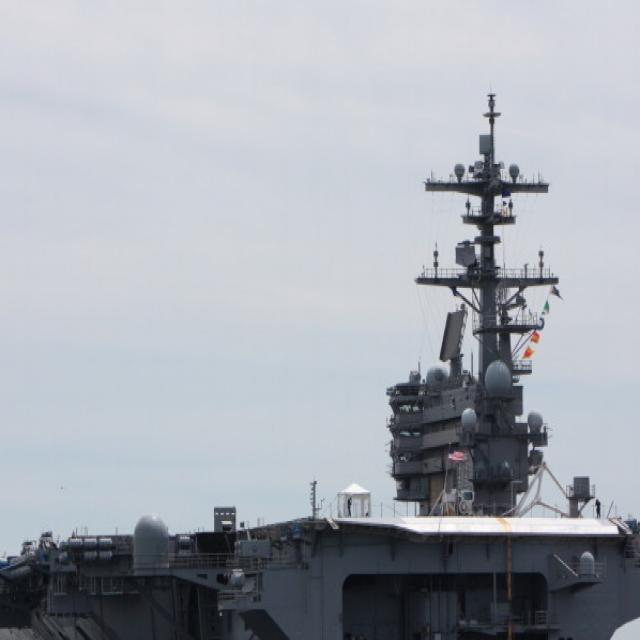Portanaves: (1, 65, 640, 640)
